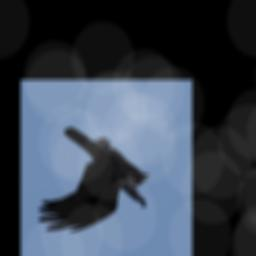Crow: (37, 127, 151, 234)
